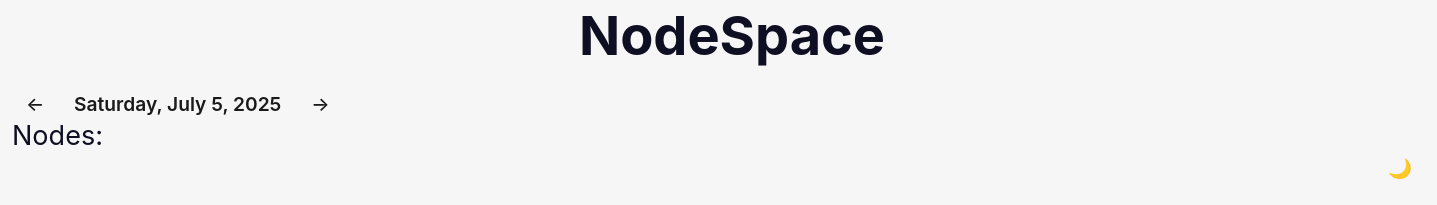
Test: App Component › handles theme toggle
This screenshot has width=1437, height=205.
Click the button "🌙" at [1400, 168], box top-left (1380, 148), bottom-right (1420, 188)
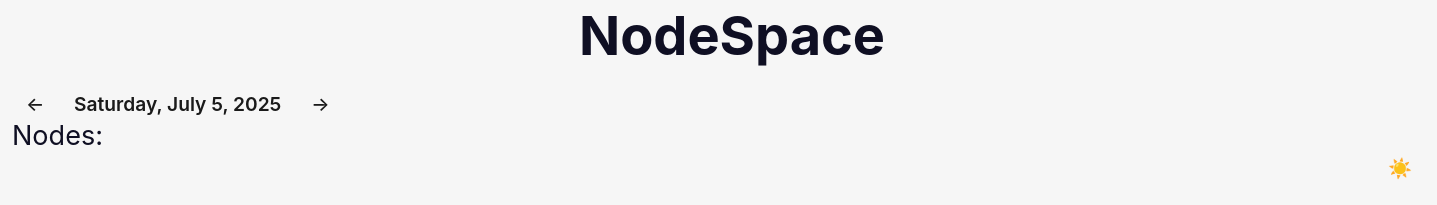
Result: the button "☀️" is shown at top-left (1380, 148), bottom-right (1420, 188)
